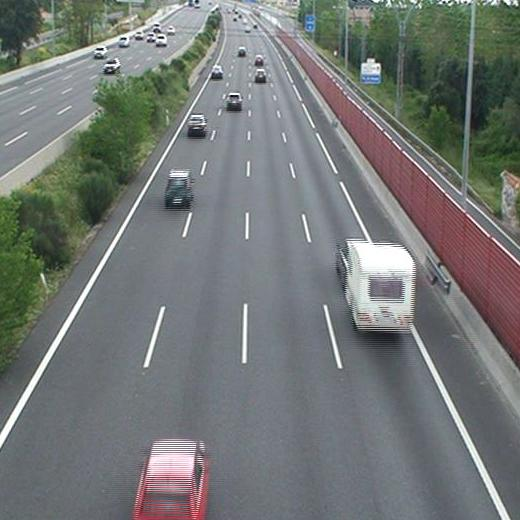car: (132, 440, 207, 520), (166, 171, 192, 205), (187, 114, 206, 135), (228, 94, 242, 109), (255, 69, 265, 81), (211, 66, 221, 78), (236, 46, 245, 56), (255, 56, 264, 66)
van: (339, 240, 413, 333)
